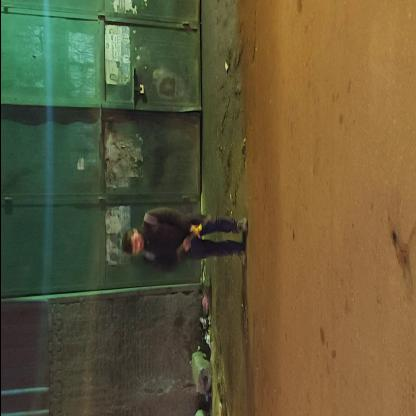long weapon: (170, 211, 214, 265)
